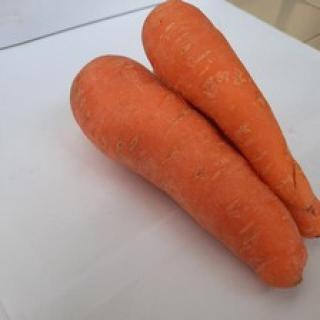carrot: (73, 54, 306, 286), (138, 0, 320, 237)
